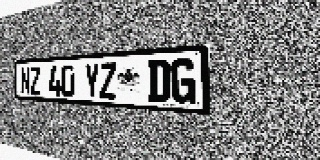0: (61, 64, 74, 97)
4: (49, 65, 61, 96)
D: (148, 59, 170, 103)
G: (171, 58, 196, 104)
N: (20, 67, 30, 95)
Y: (84, 63, 99, 99)
Z: (100, 62, 117, 100), (30, 66, 41, 95)
